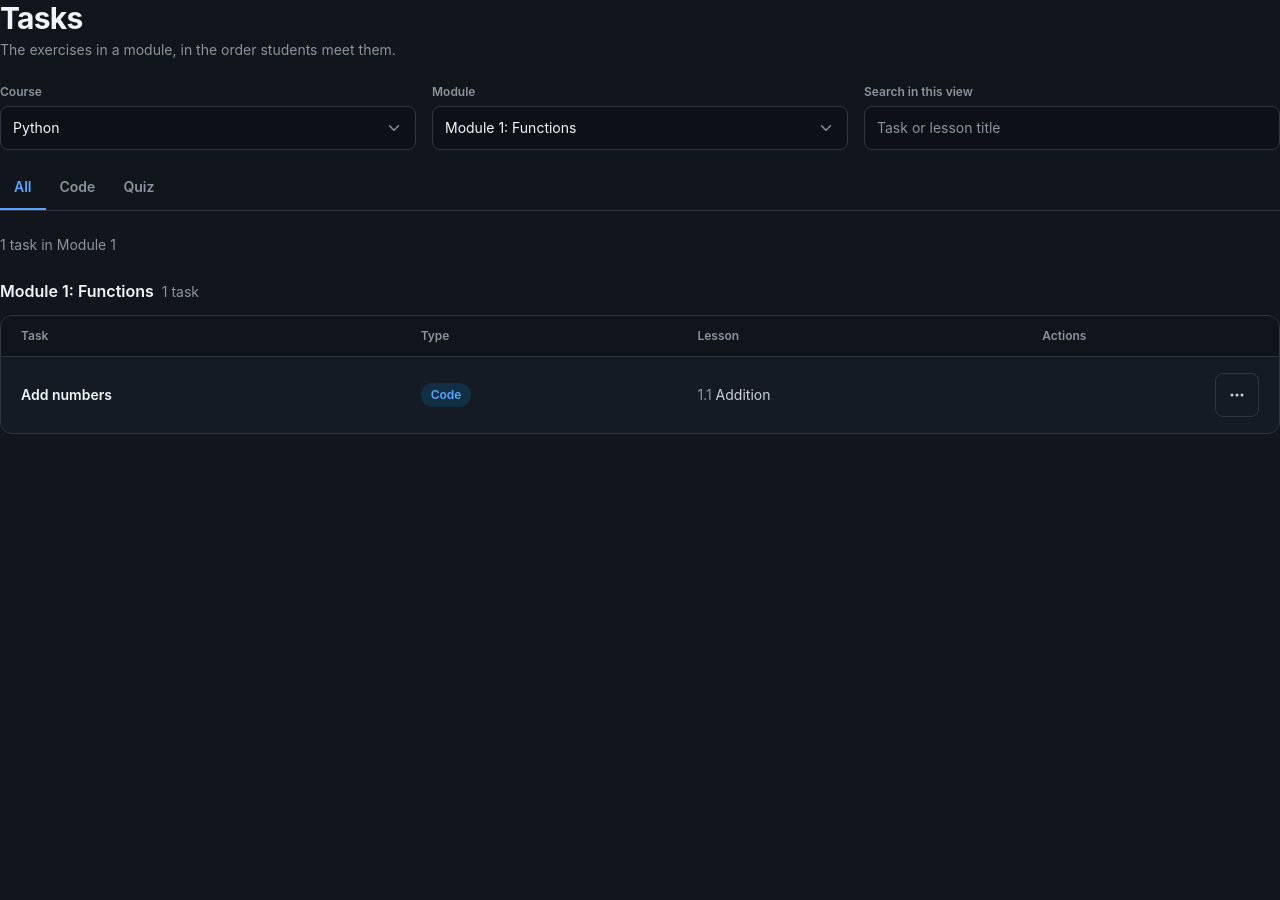
keeps the task and cached data when the backend rejects deletion
Click the button named "Actions for Add numbers" at (1237, 395), box [1215,373,1259,417]
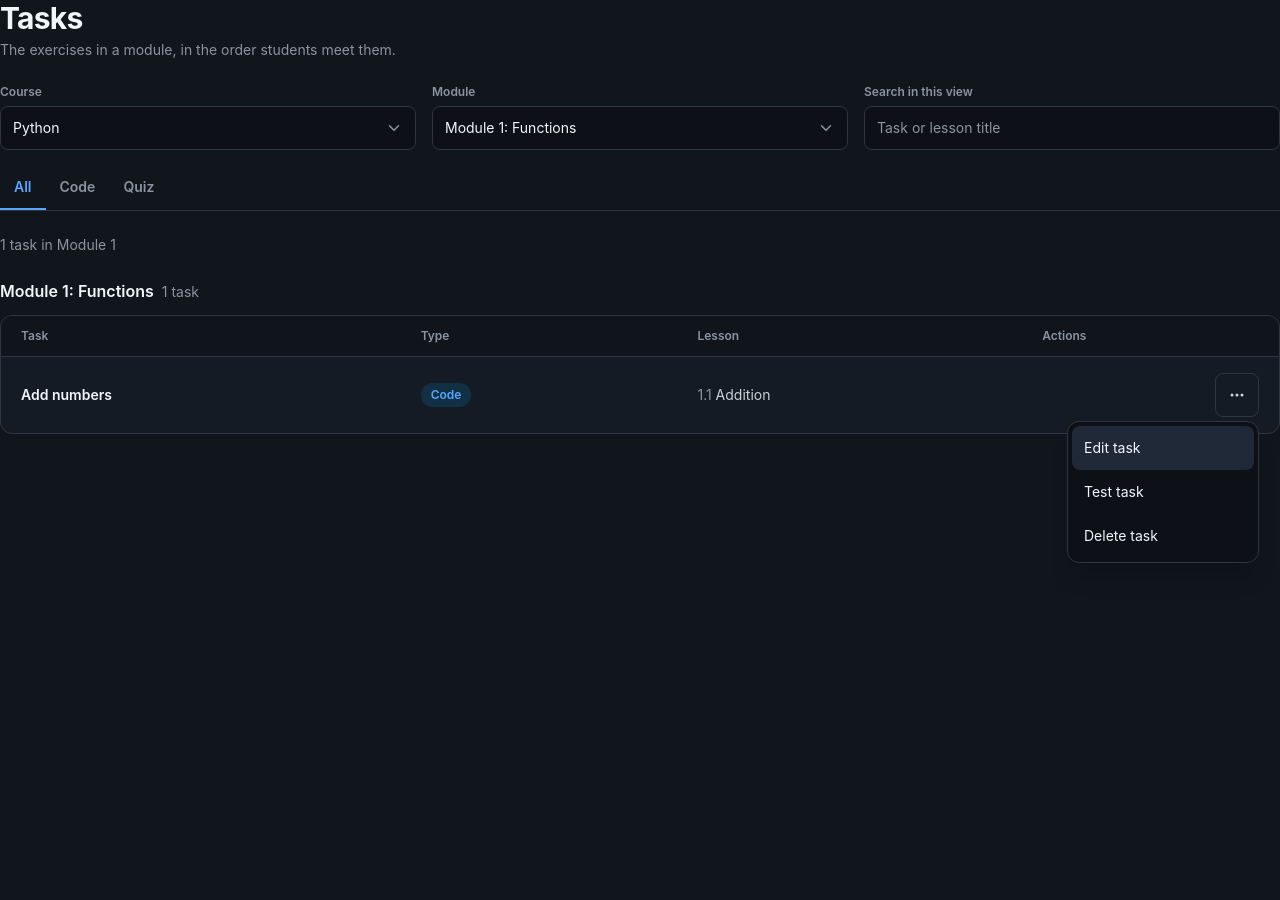
Click the menu item "Delete task" at (1163, 536), box [1072,514,1254,558]
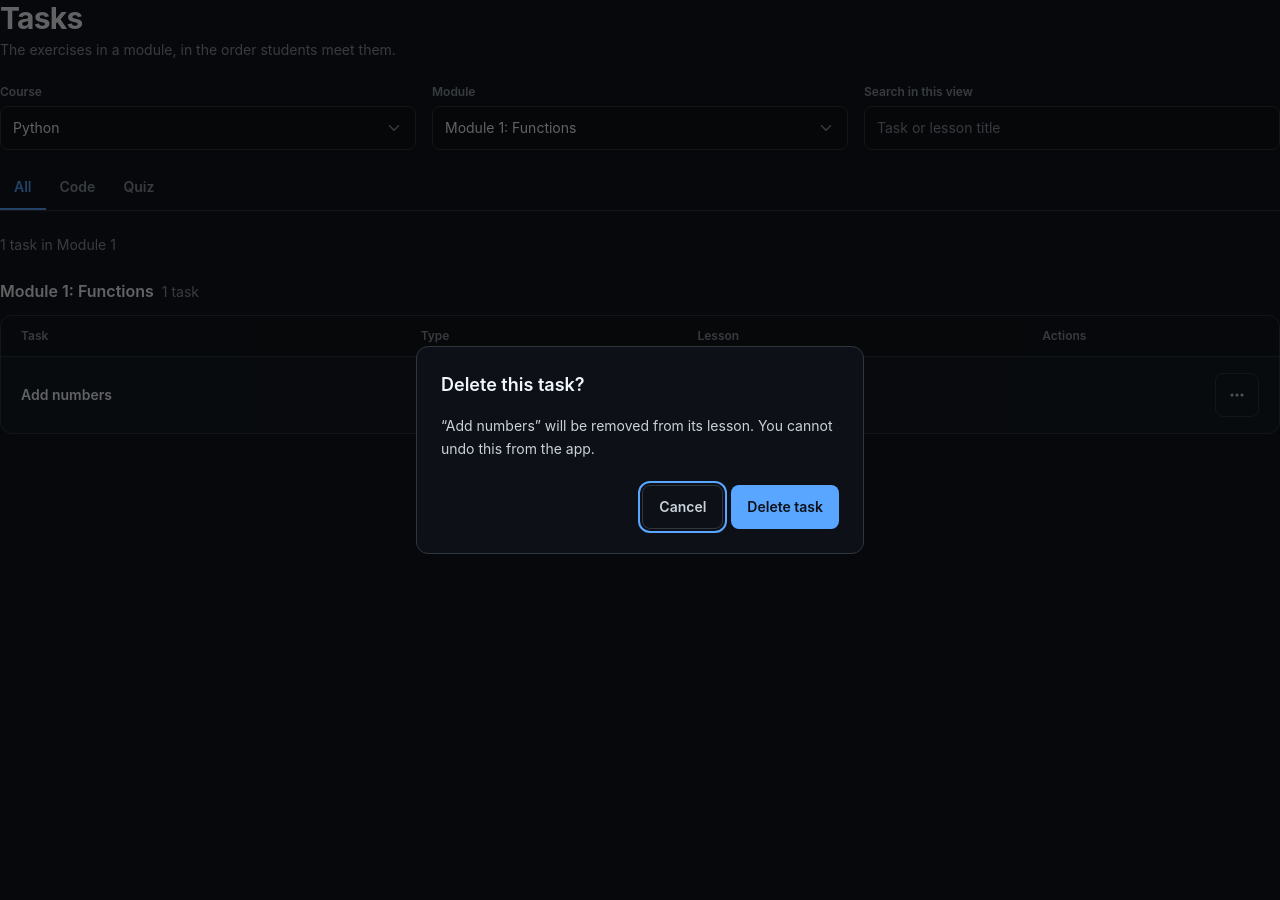
Click the button "Delete task" at (785, 507), box [731,485,839,529]
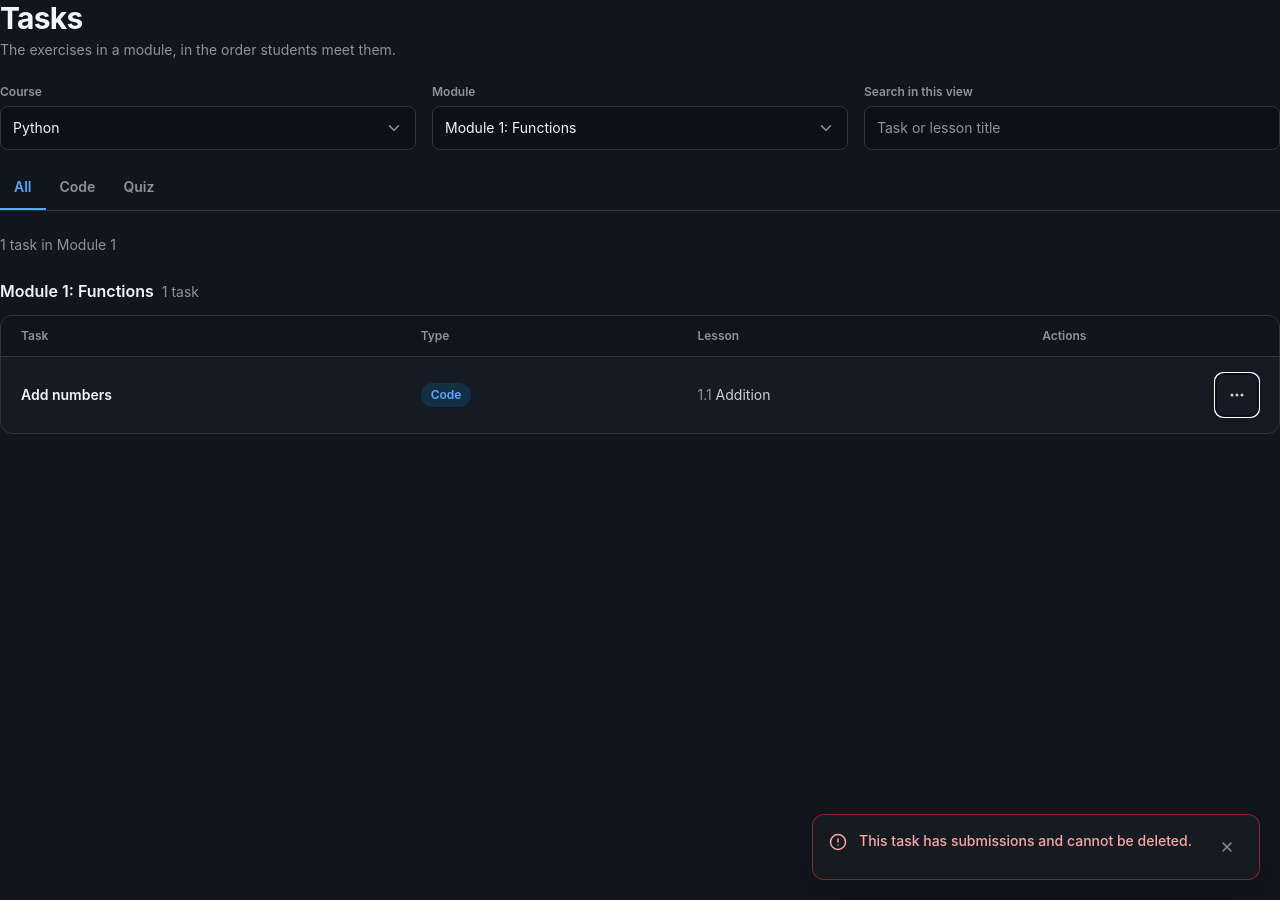
Expected: the link "Add numbers" is shown, [21,386,112,403]
Now the text "This task has submissions and cannot be deleted." is shown, box [859,831,1199,851]
